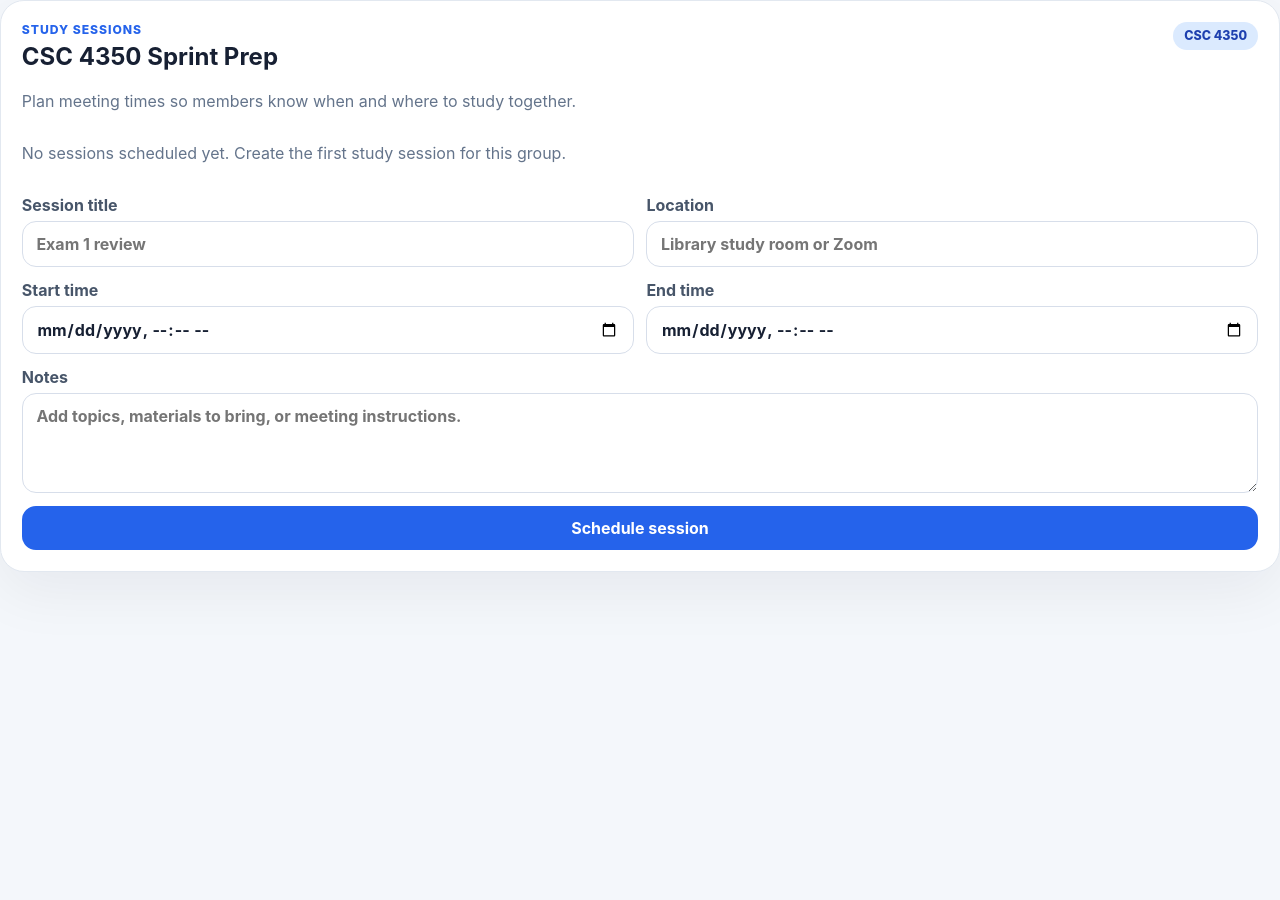
GroupSessions › rejects a session when the end time is before the start time
This screenshot has width=1280, height=900.
Step 1. Type "Invalid Session" into the field labelled "Session title" → coordinates (328, 244), box top-left (22, 221), bottom-right (634, 267)
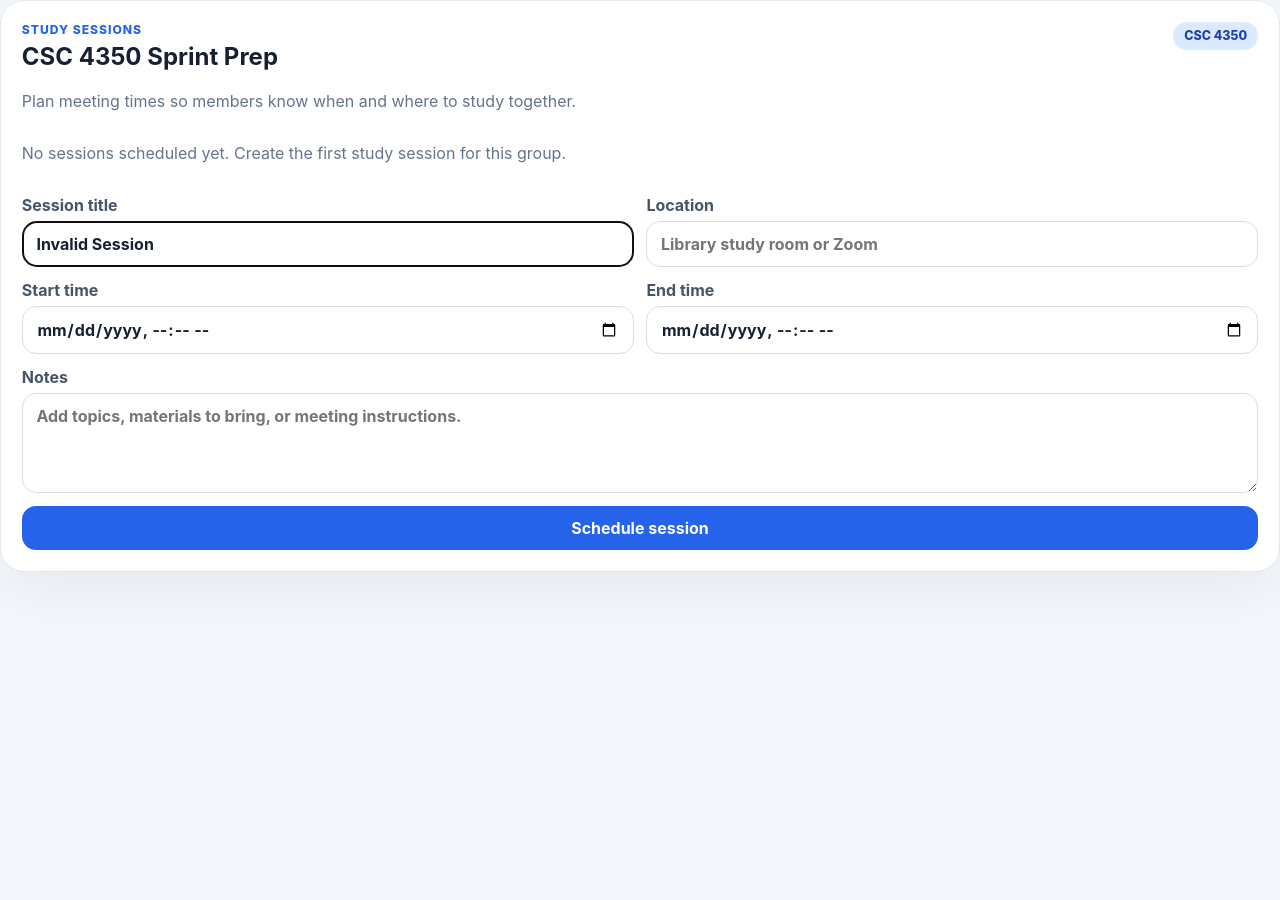
Step 2. Type "2026-07-20T16:00" into the field labelled "Start time" → coordinates (328, 330), box top-left (22, 306), bottom-right (634, 354)
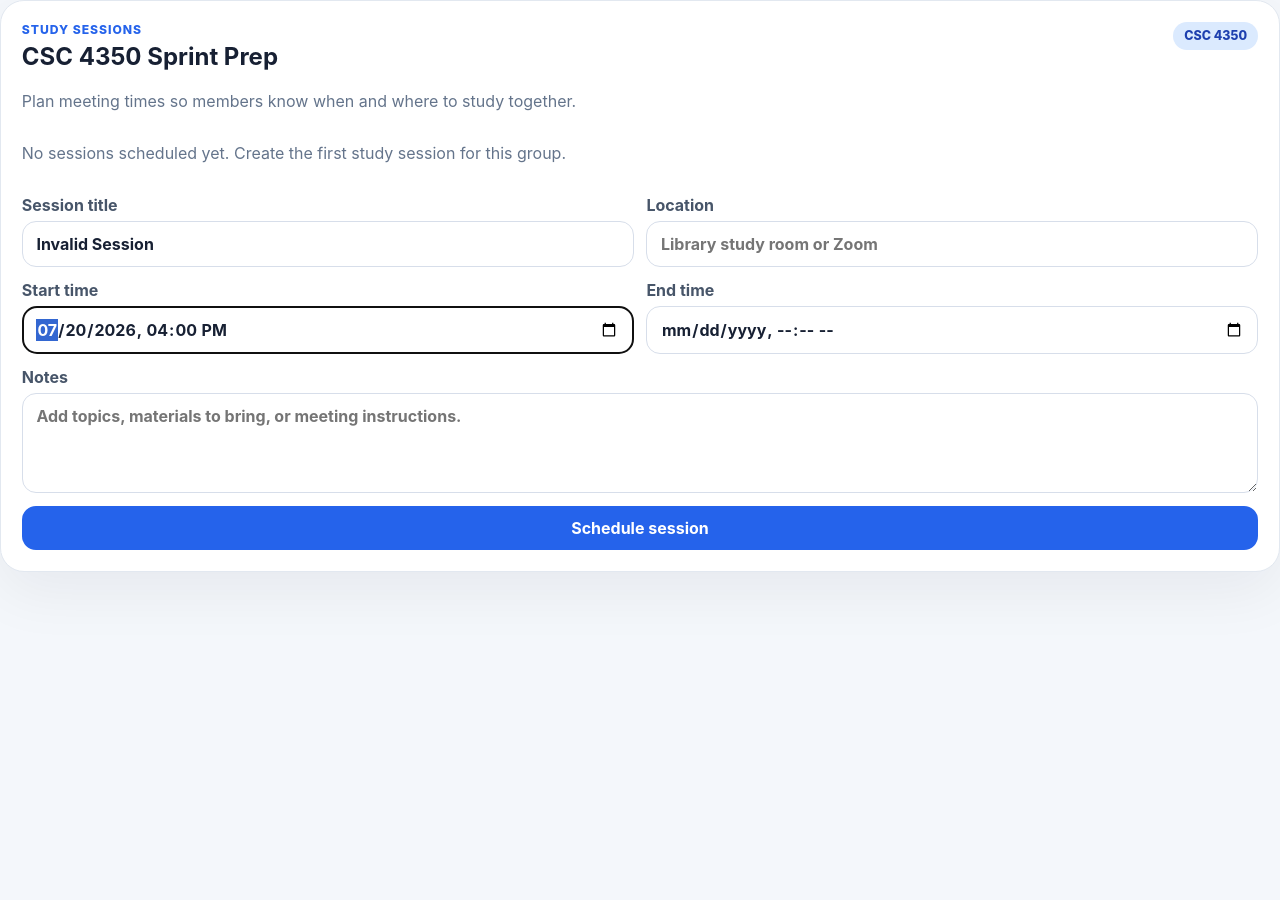
Step 3. Type "2026-07-20T15:00" into the field labelled "End time" → coordinates (952, 330), box top-left (646, 306), bottom-right (1258, 354)
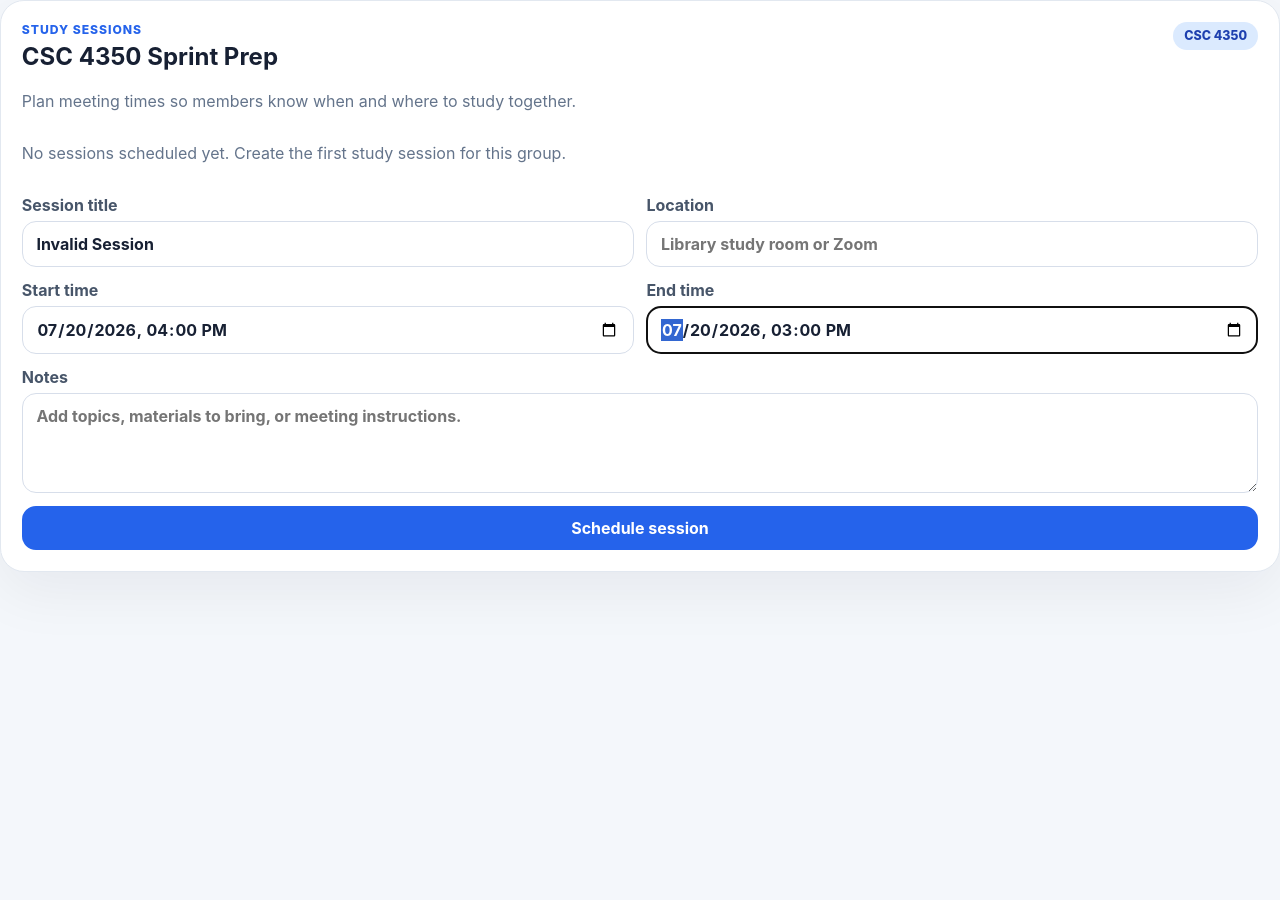
Step 4. Click the button "Schedule session" → coordinates (640, 528), box top-left (22, 506), bottom-right (1258, 550)
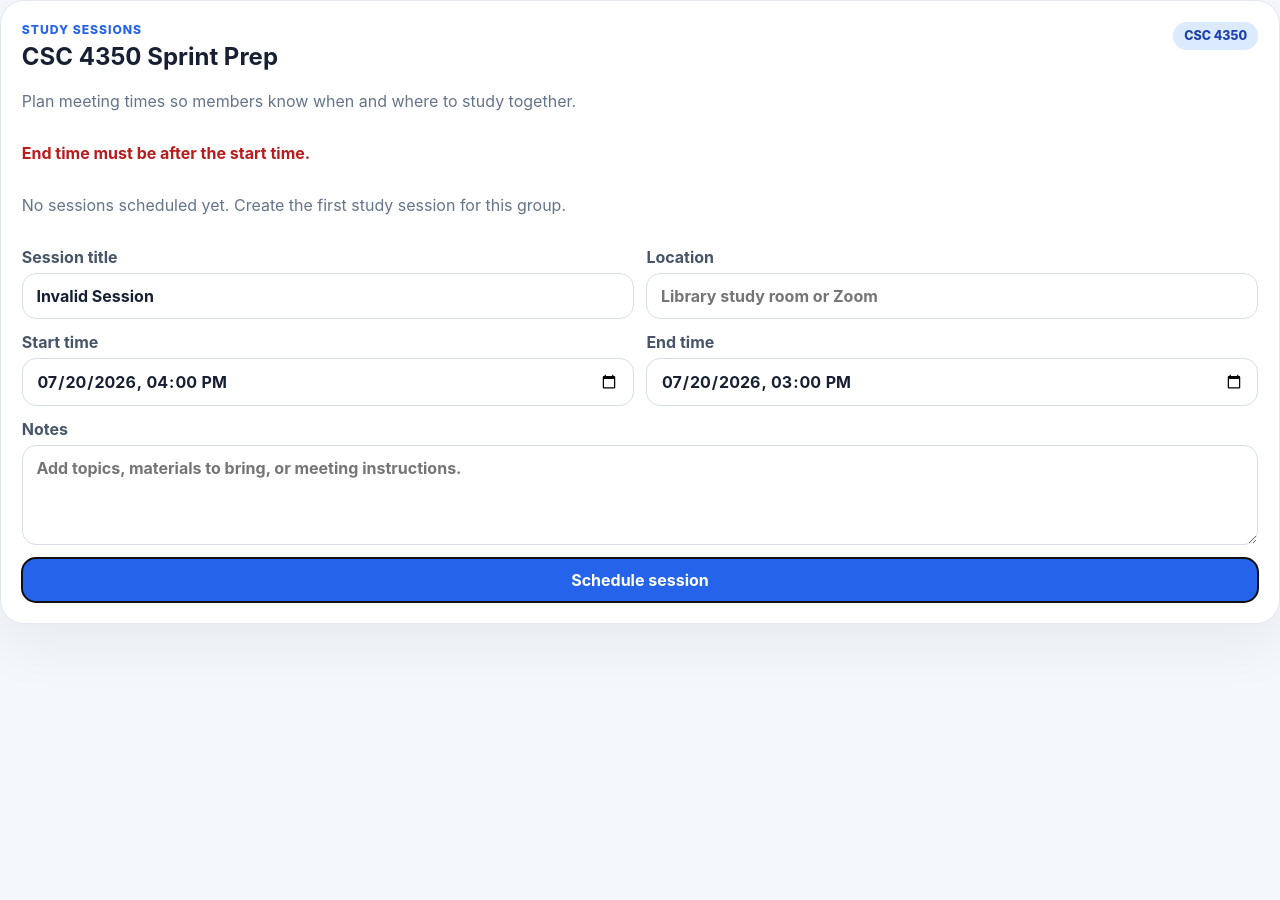
expect the text "End time must be after the start time." is shown: met, box top-left (22, 142), bottom-right (310, 162)
